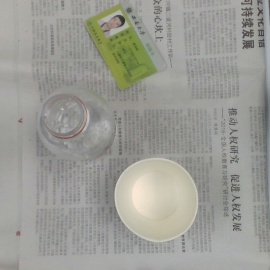bottle: (37, 88, 115, 163)
card: (85, 2, 167, 89)
cup: (112, 158, 198, 241)
